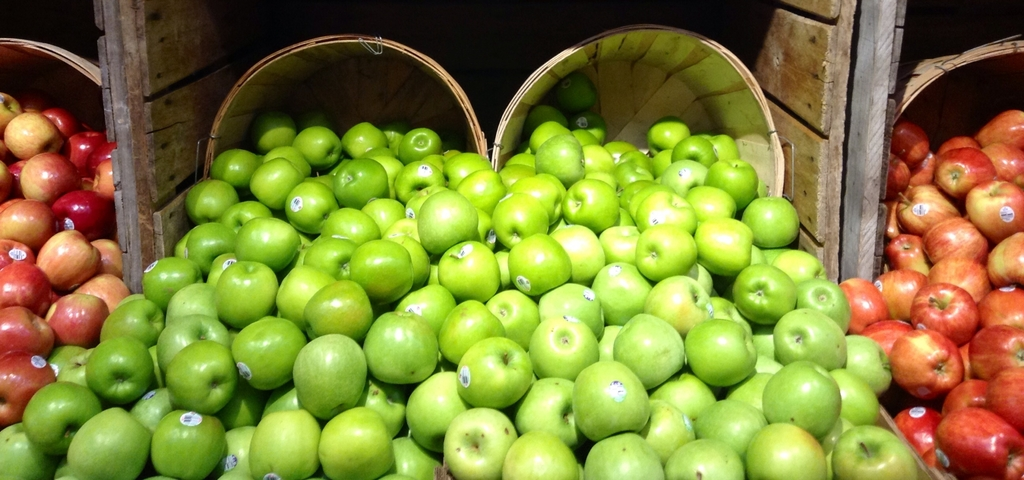Apple: (0, 109, 912, 479), (837, 109, 1023, 479), (0, 87, 122, 419), (691, 305, 760, 380), (556, 73, 600, 108)
